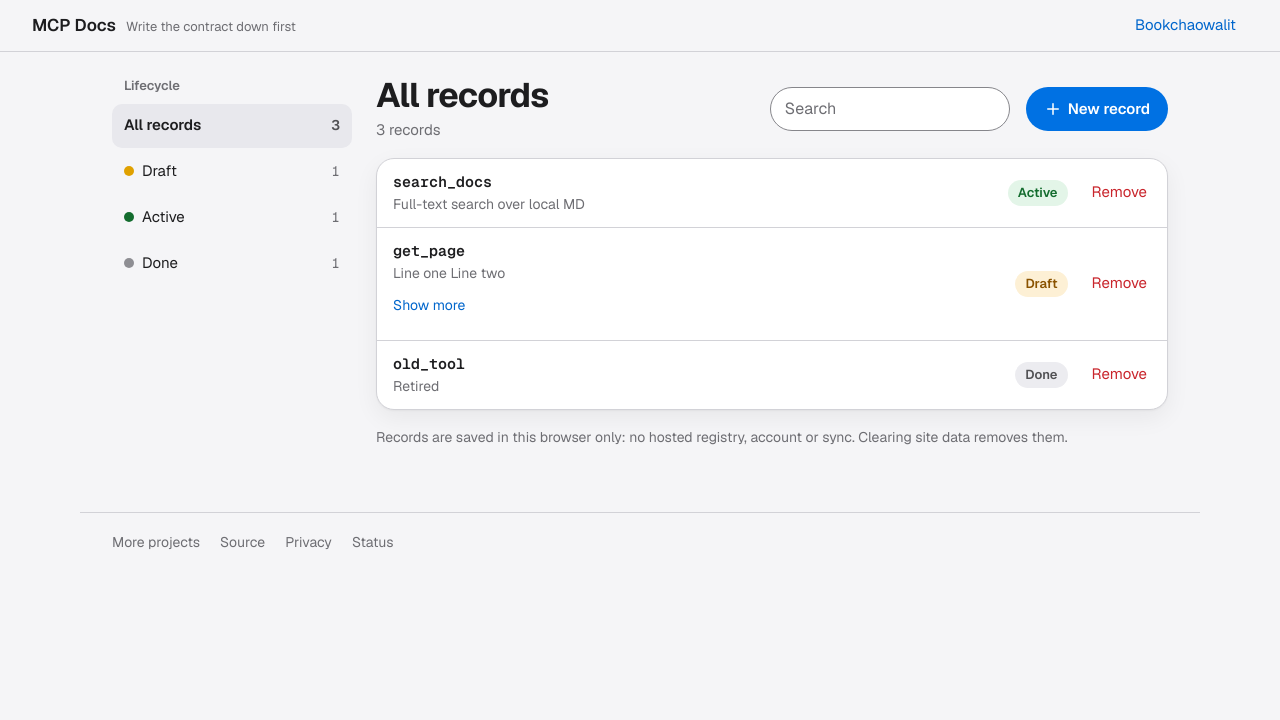
remove and undo › removes with a toast; Undo by keyboard restores the row in place and focuses its Remove
The width and height of the screenshot is (1280, 720).
Later steps or results of the test are not shown.
Click the button with aria-label "Remove get_page".
click(1119, 284)  # box [1080,262,1159,306]
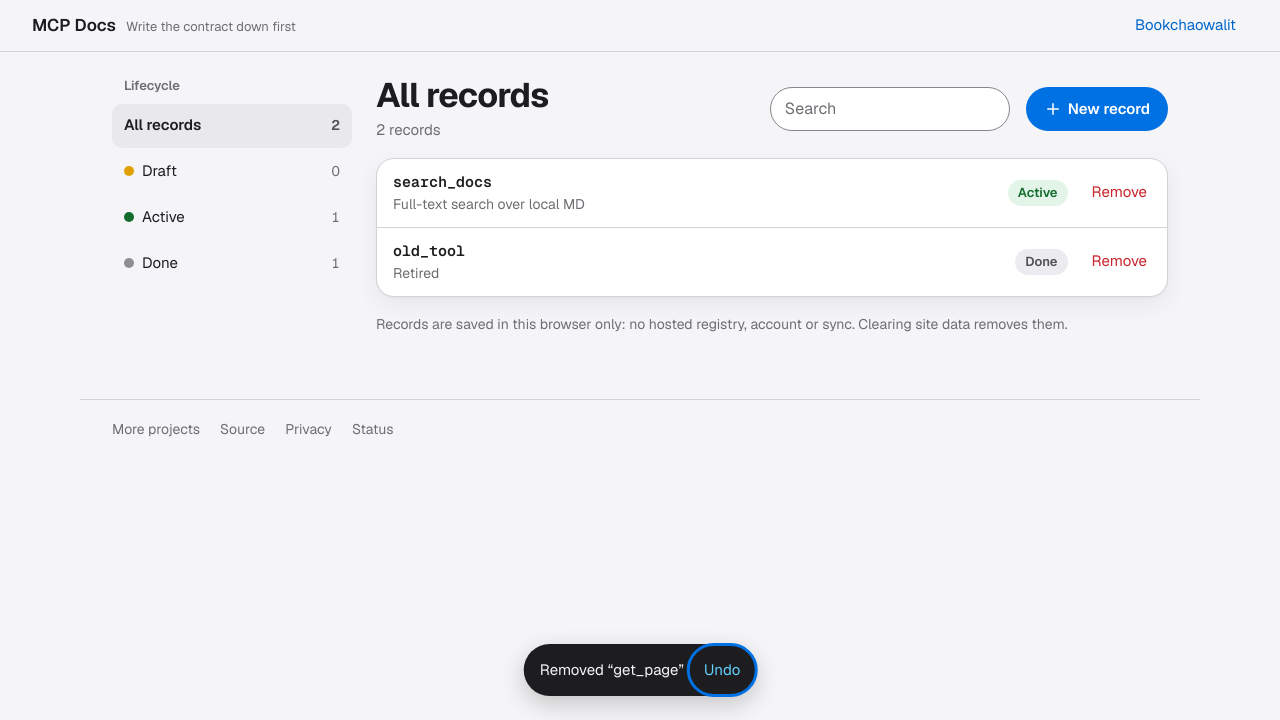
Expected: the element with class "as-toast" shows "Removed “get_page”", [540,660,684,679]
